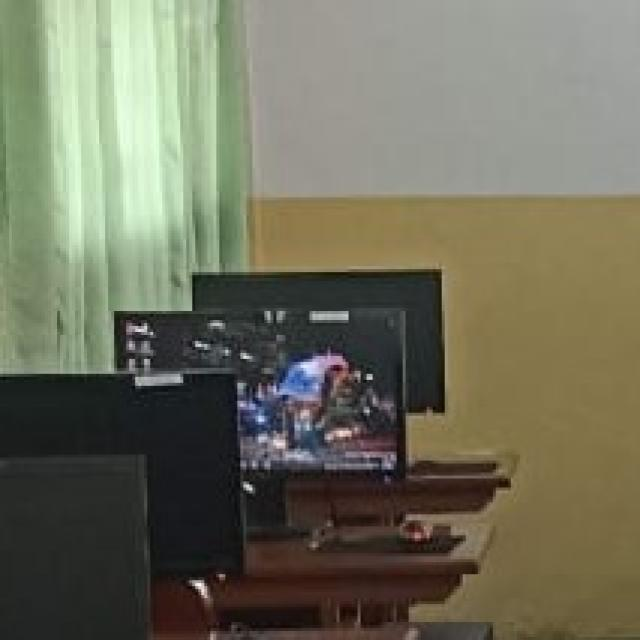offscreen: (0, 374, 240, 552), (193, 271, 443, 411), (1, 458, 147, 639)
onscreen: (116, 311, 400, 472)
